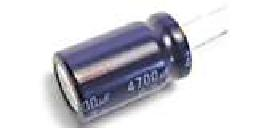Electrolytic Capacitor: (52, 9, 195, 121)
